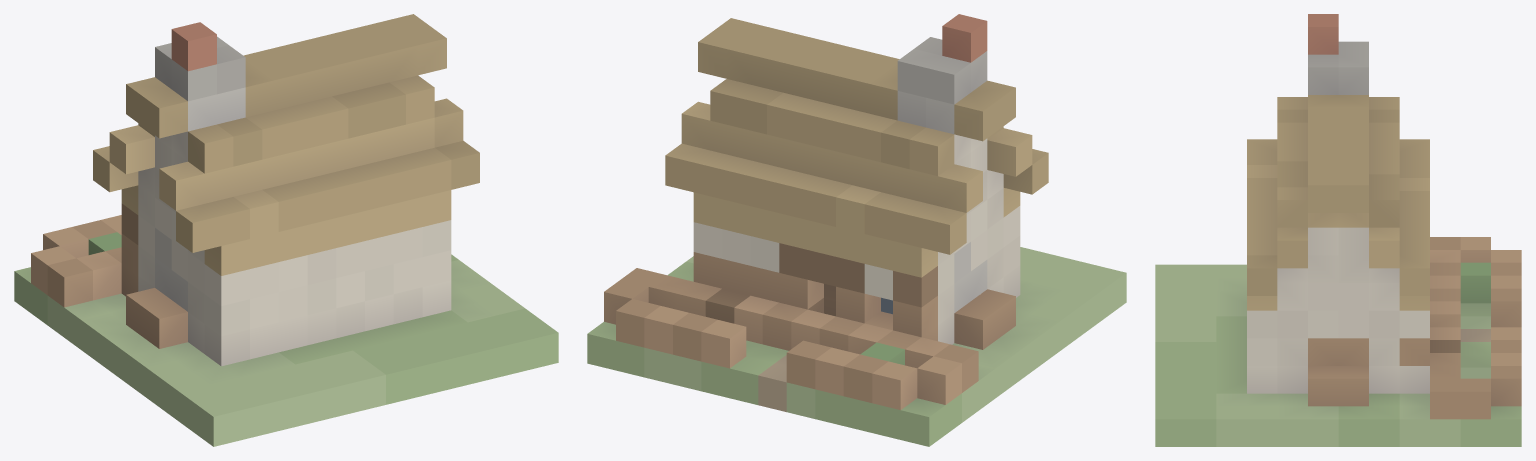
The model's file is house_settlers.v0.lite.glb.
3 views of the same model, side by side, from view 1: azimuth 30°, elevation 25°; view 2: azimuth 150°, elevation 25°; view 3: azimuth 270°, elevation 25° (orthographic). The views are drawn at different scales.
Parts seen in each view (by area): view 1: house_settlers; view 2: house_settlers; view 3: house_settlers.
Part boxes in pixels (bbox=[...]): house_settlers: bbox=[14, 14, 558, 446]; house_settlers: bbox=[587, 14, 1126, 446]; house_settlers: bbox=[1155, 14, 1521, 446].
Size of the model in its own units: 3 by 2.75 by 3.
